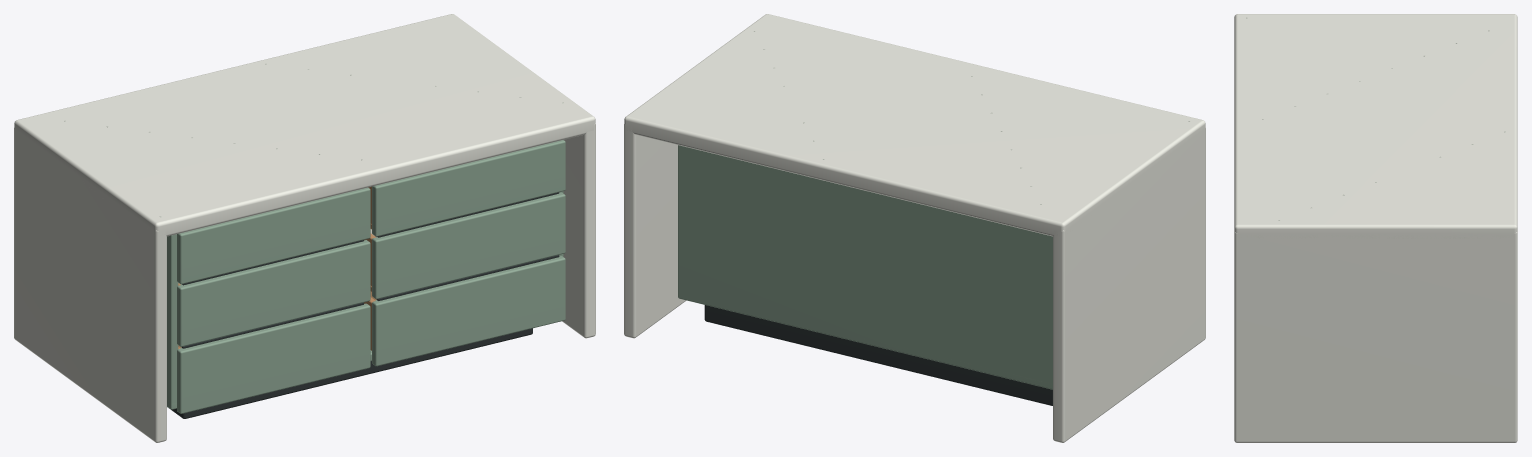
The model's file is kitchenModernIslandSage.glb.
3 renders of one model, left to right at view 1: azimuth 30°, elevation 25°; view 2: azimuth 150°, elevation 25°; view 3: azimuth 270°, elevation 25°, orthographic.
Parts seen in each view (by area): view 1: Thick stone worktop, Stone waterfall end panel, Handleless island drawer.002, Handleless island drawer.005, Handleless island drawer.004, Handleless island drawer.001, Handleless island drawer.003, Handleless island drawer, Stone waterfall end panel.001, Recessed island plinth, Storage inner side; view 2: Thick stone worktop, Storage inner back, Stone waterfall end panel, Stone waterfall end panel.001, Recessed island plinth; view 3: Thick stone worktop, Stone waterfall end panel.001.
Part boxes in pixels (box(x1,y1,x2,y2)): Thick stone worktop: box(14, 14, 595, 236); Stone waterfall end panel: box(14, 127, 166, 442); Handleless island drawer.002: box(177, 303, 370, 413); Handleless island drawer.005: box(372, 256, 565, 366); Handleless island drawer.004: box(372, 192, 565, 299); Handleless island drawer.001: box(177, 240, 370, 346); Handleless island drawer.003: box(372, 140, 565, 236); Handleless island drawer: box(177, 187, 370, 284); Stone waterfall end panel.001: box(562, 123, 595, 338); Recessed island plinth: box(167, 328, 532, 418); Storage inner side: box(167, 234, 178, 408); Thick stone worktop: box(624, 14, 1205, 236); Storage inner back: box(678, 145, 1052, 389); Stone waterfall end panel: box(1053, 127, 1205, 442); Stone waterfall end panel.001: box(624, 123, 686, 338); Recessed island plinth: box(704, 305, 1052, 405); Thick stone worktop: box(1234, 14, 1517, 238); Stone waterfall end panel.001: box(1234, 232, 1517, 442).
Size of the model in its own units: 2.58 by 1.23 by 1.45.
